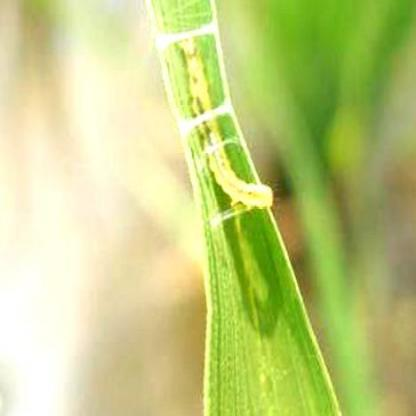leaf-folder: (154, 31, 308, 233)
